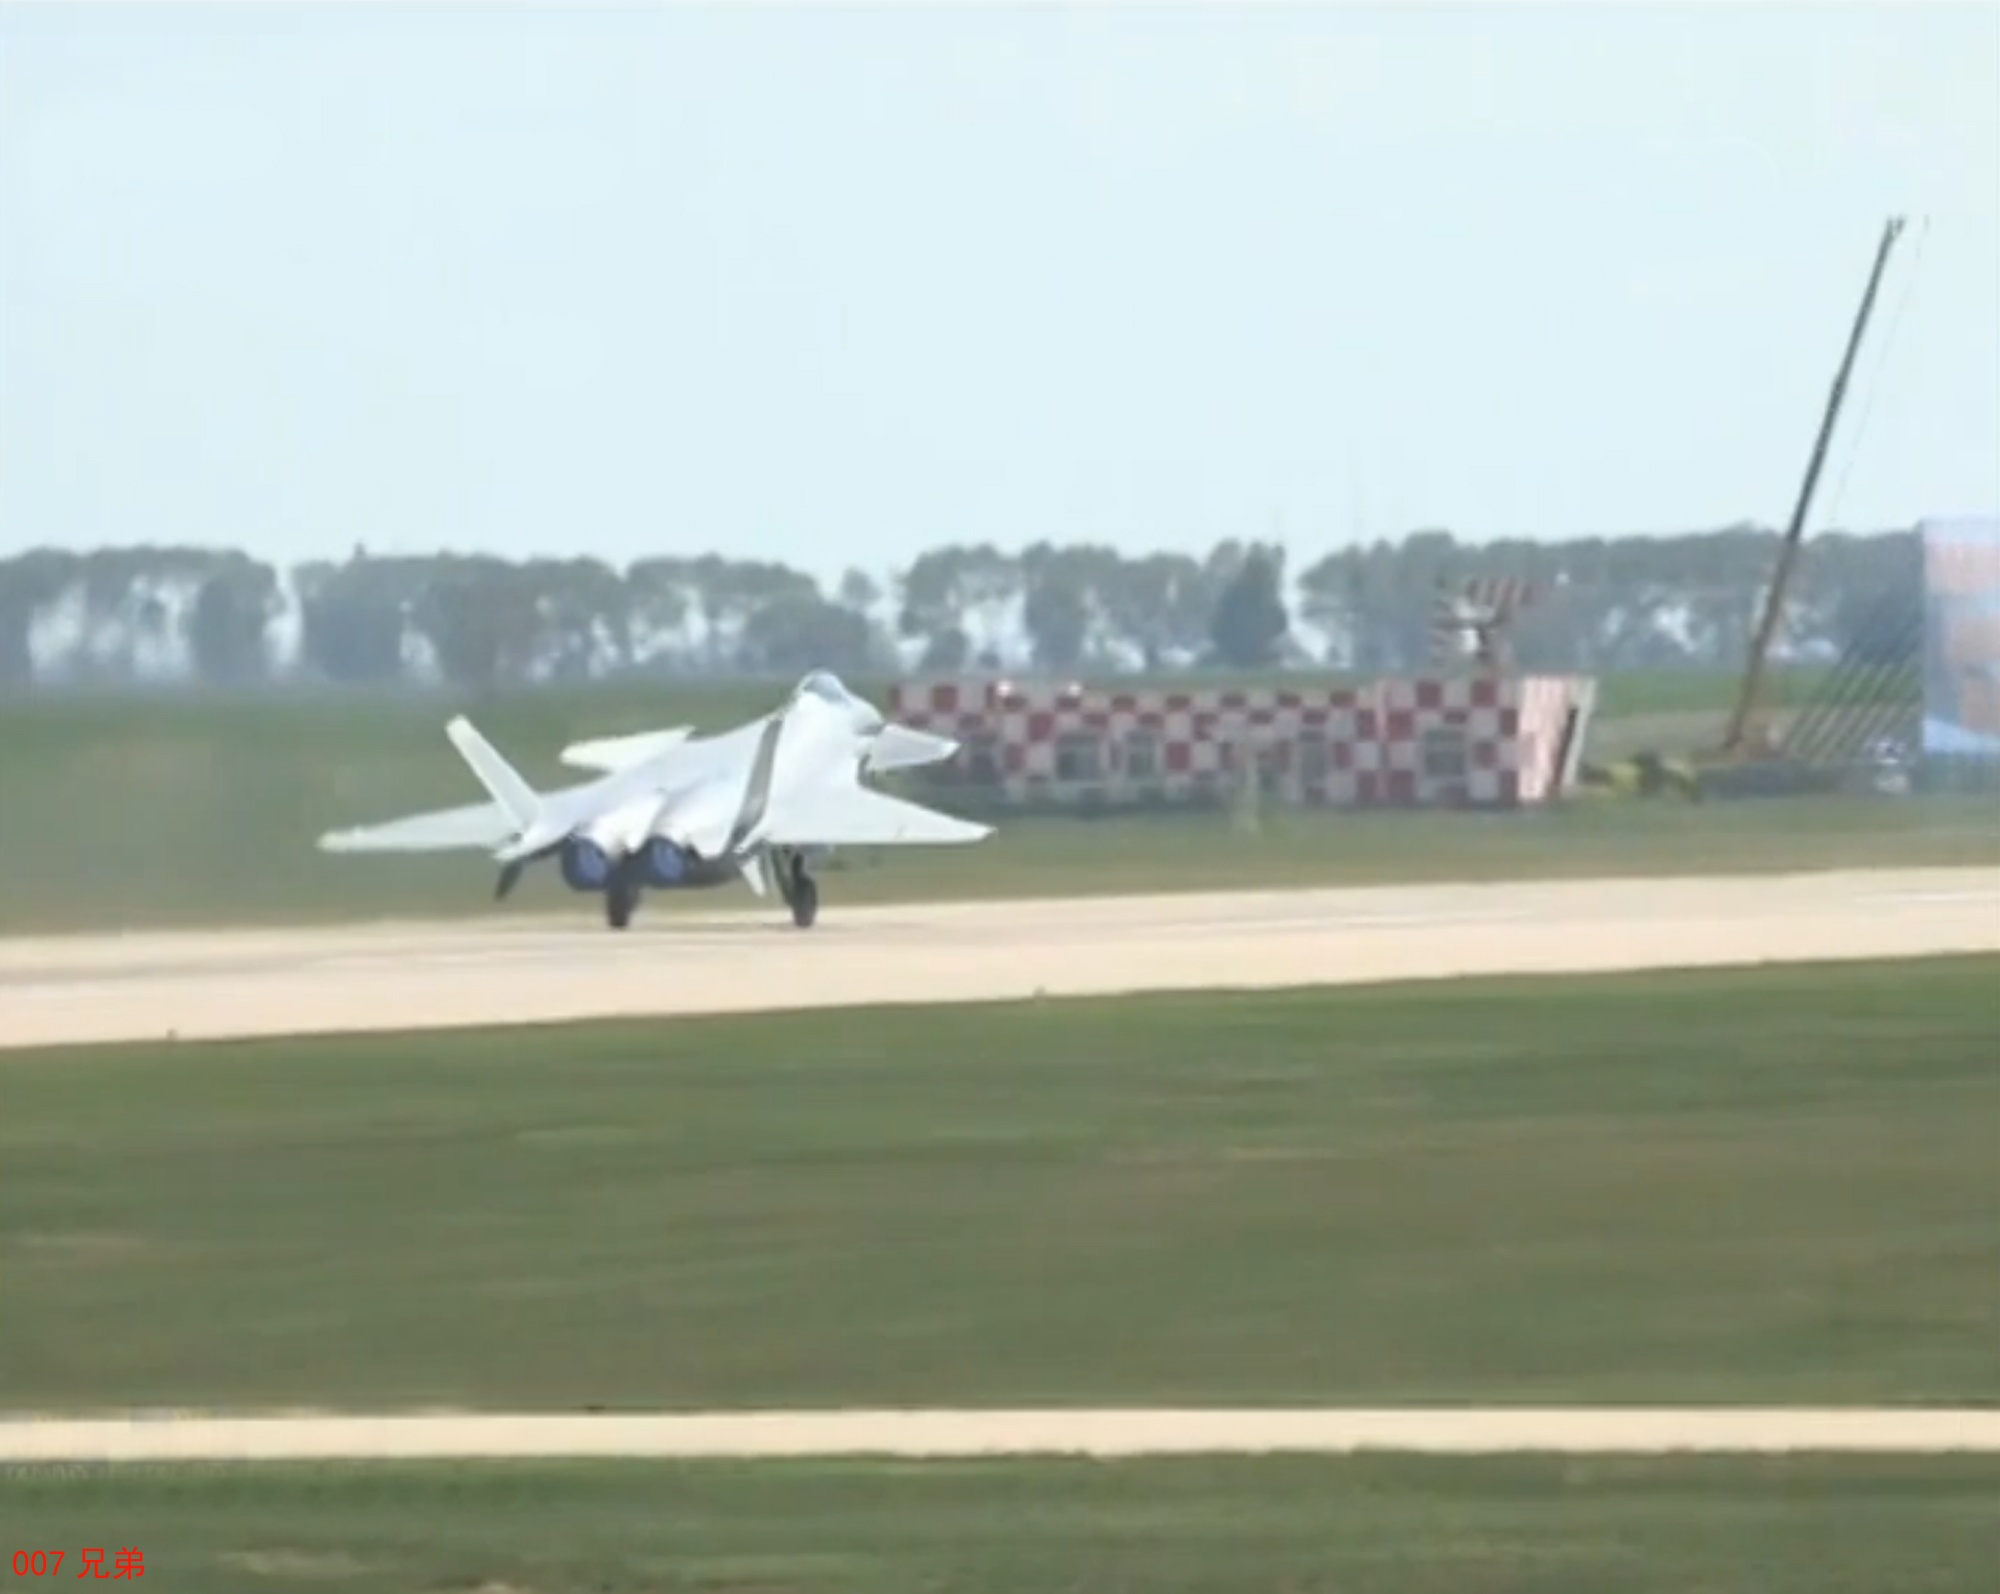J20: (312, 667, 998, 929)
